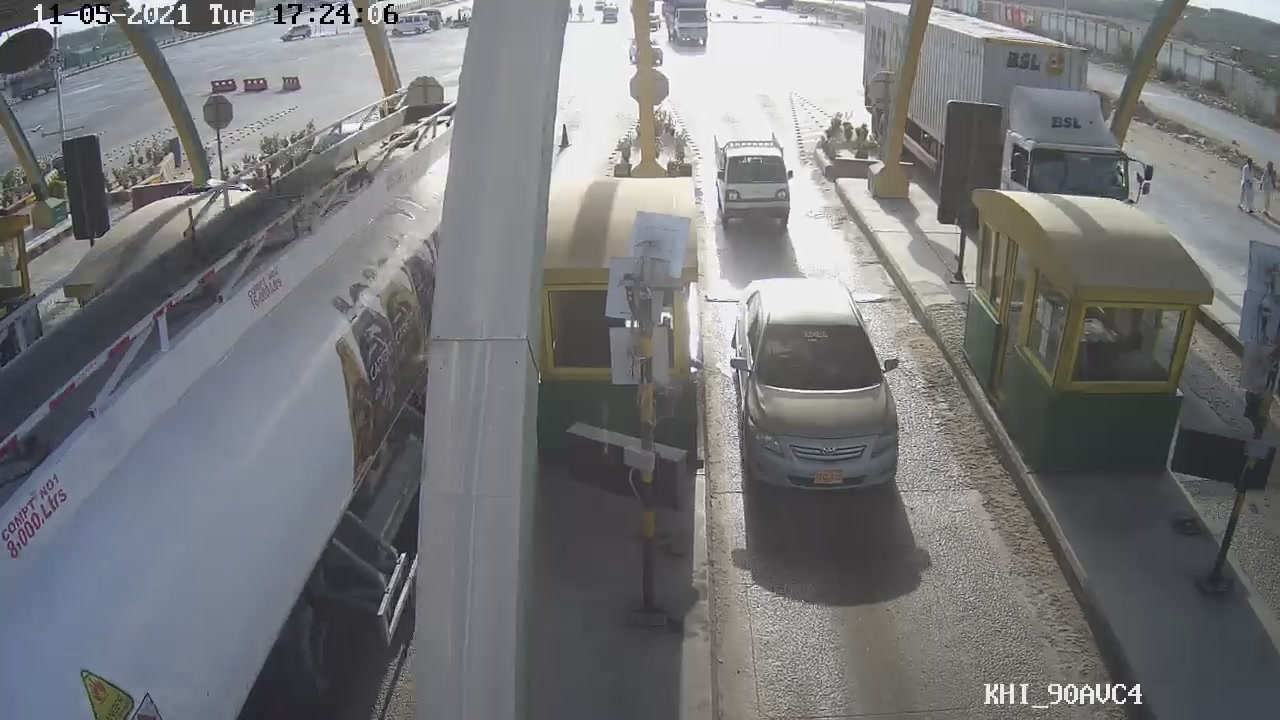F1: (722, 272, 913, 496), (707, 128, 801, 235)
